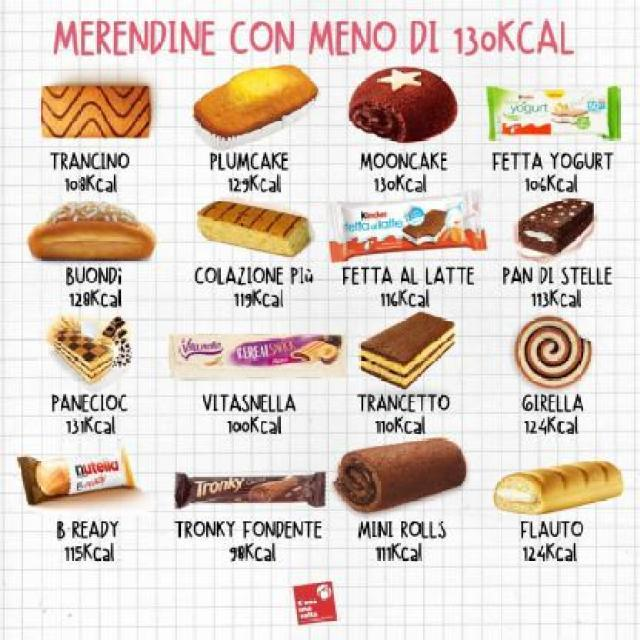Cereal bar: (166, 332, 348, 383)
Chocolate bar: (170, 471, 328, 515)
Merendine: (324, 197, 488, 260), (15, 444, 147, 508), (487, 84, 622, 140)
Merendine packaged: (188, 64, 324, 148), (332, 437, 477, 514), (344, 66, 462, 144), (22, 200, 160, 260), (358, 311, 458, 389), (492, 460, 626, 517), (192, 196, 316, 256), (512, 314, 594, 390), (40, 84, 149, 140), (514, 198, 598, 262), (54, 329, 118, 385)
